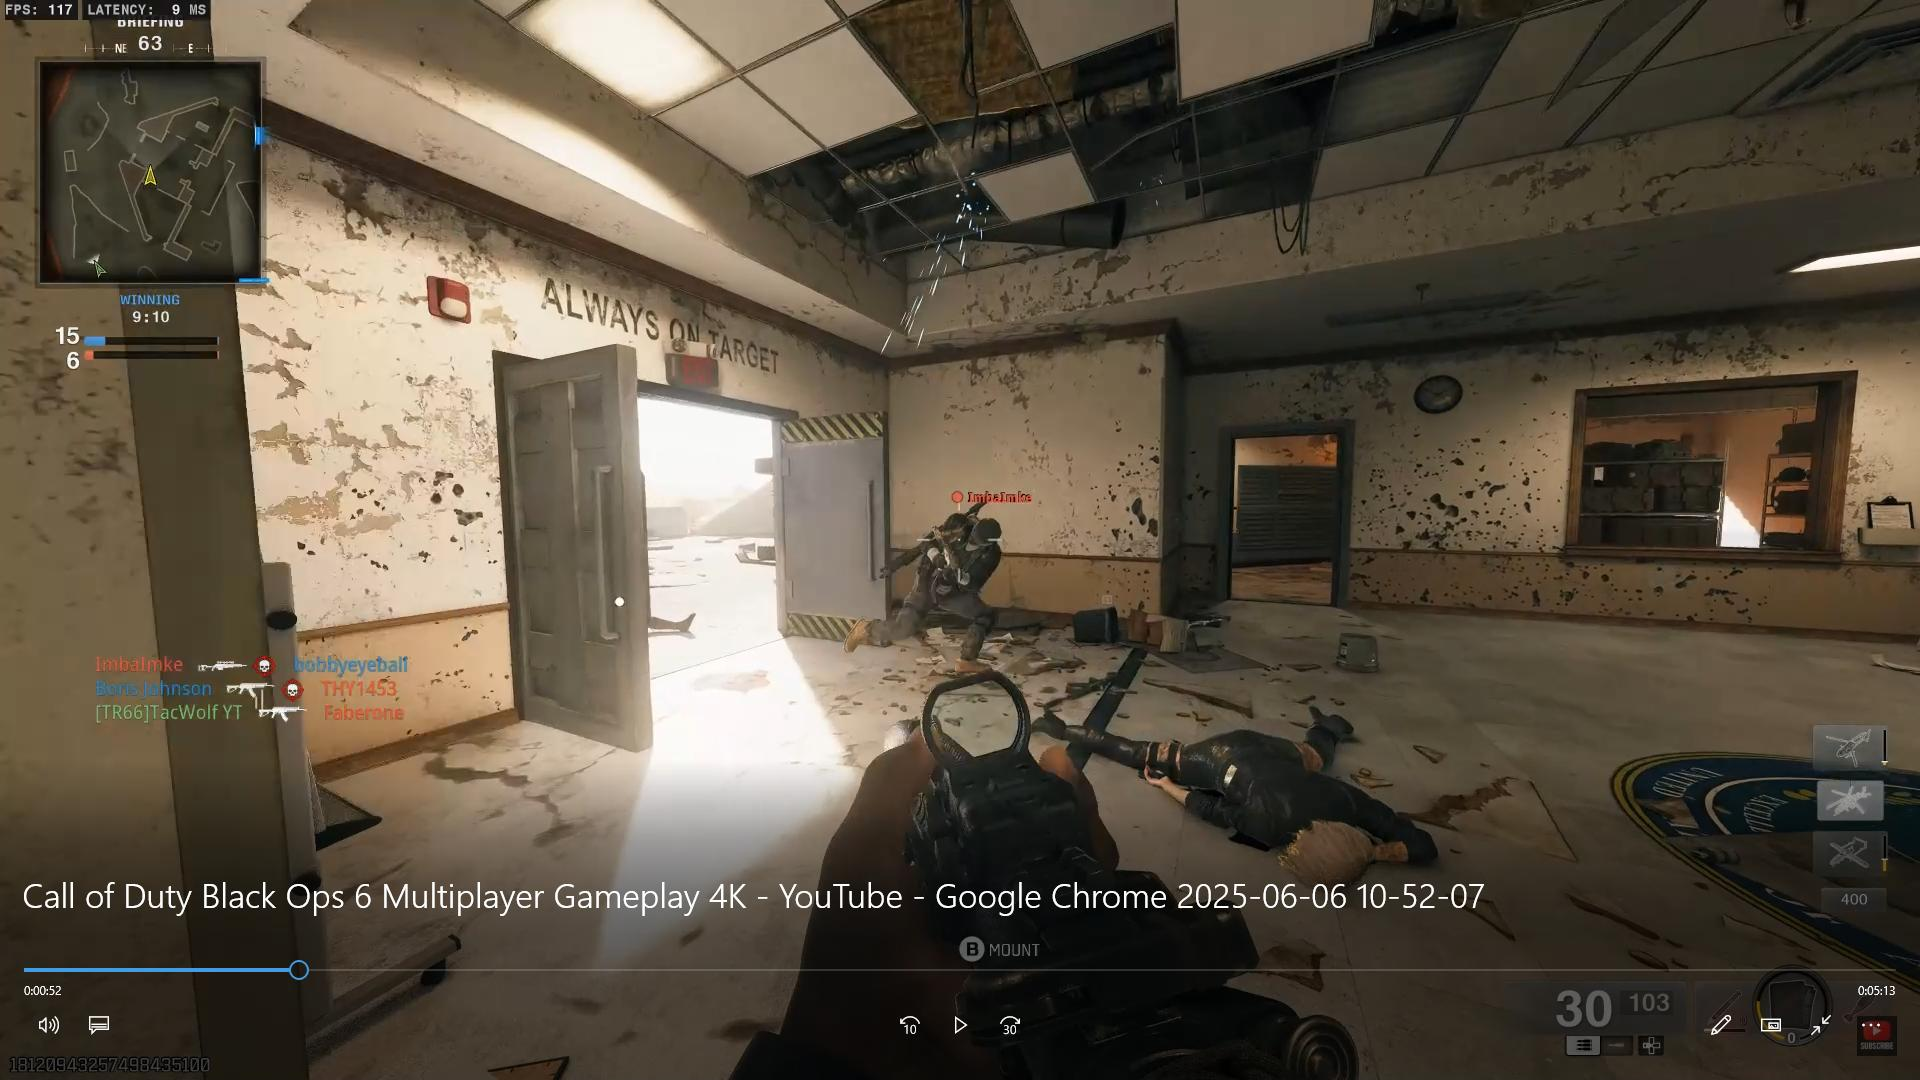Enemy: (858, 436, 1043, 684)
